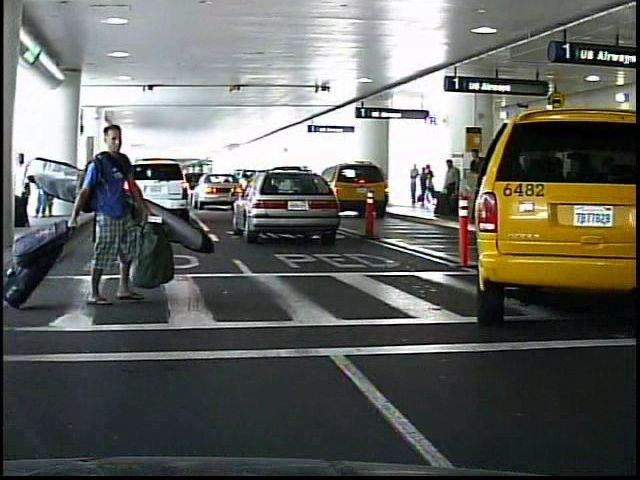person: (79, 116, 149, 324), (438, 160, 460, 219), (485, 145, 499, 215), (407, 164, 419, 208), (419, 166, 430, 210)
